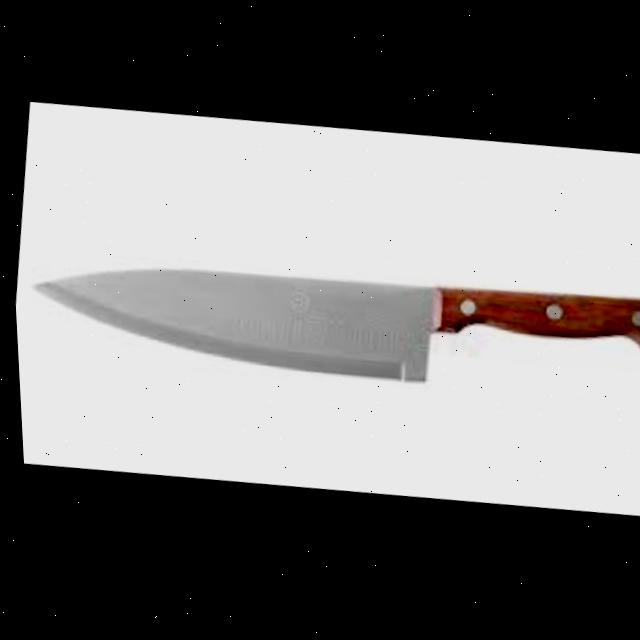knife: (21, 225, 640, 423)
